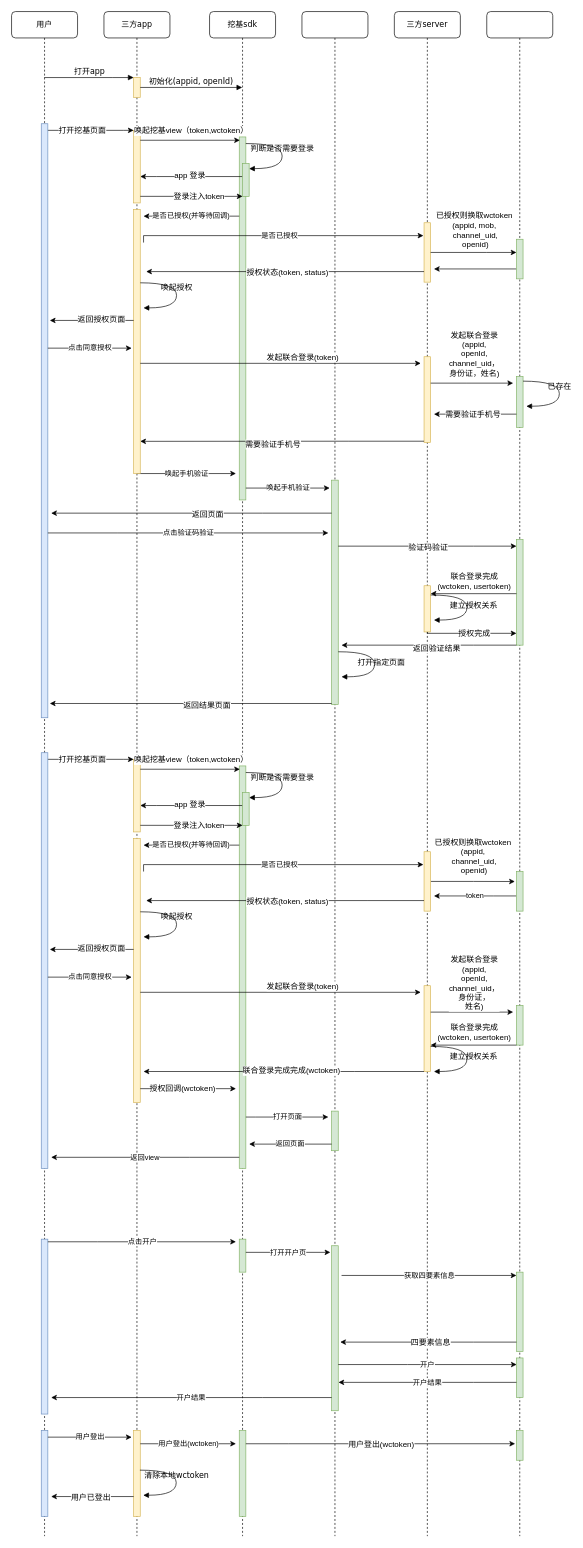
Image size: 583x1548. Some labels were removed from this diagram. The box of each missing label's shape, as (x1, y1, x2, y2) in pixels:
挖基auth 服务: (486, 11, 553, 1536)
挖基h5: (301, 11, 368, 1536)
